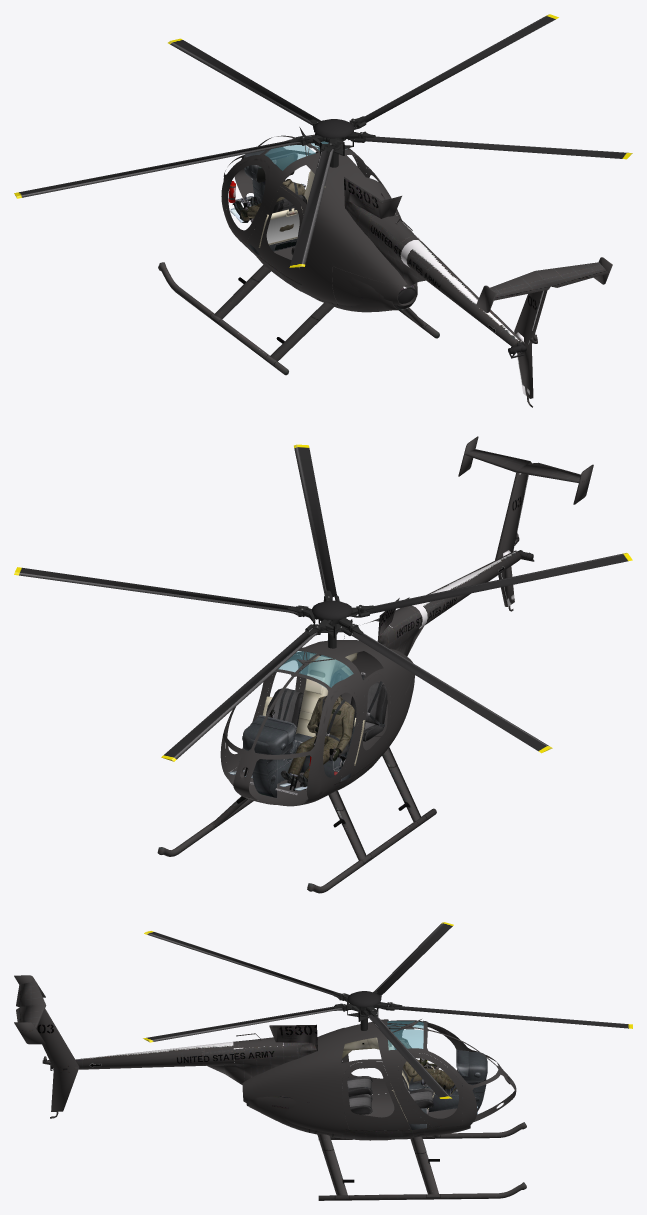
The model's file is md5_int4.glb.
The picture shows the model from 3 angles, top to bottom: view 1: azimuth 30°, elevation 25°; view 2: azimuth 150°, elevation 25°; view 3: azimuth 270°, elevation 25°; orthographic projection. The views are drawn at different scales.
Visible parts, largest first — view 1: body, ext_fuse_shadow, rotor_blades, ext_fuse_skids, ixt_console, rotor_hub, glasss_grn, ixt_pilot; view 2: rotor_blades, body, ext_fuse_shadow, ixt_console, ext_fuse_skids, ixt_pilot, ixt_seatsL, glasss_grn, ixt_seatsR, rotor_hub; view 3: body, ext_fuse_shadow, rotor_blades, ext_fuse_skids, ixt_console, ixt_seatsR, glasss_grn, rotor_hub, ixt_pilot, ixt_seatsL.
Part boxes in pixels (x1,y1,x2,y2): body: [221, 134, 417, 306]; ext_fuse_shadow: [242, 177, 612, 407]; rotor_blades: [14, 14, 632, 267]; ext_fuse_skids: [158, 262, 439, 375]; ixt_console: [228, 147, 325, 254]; rotor_hub: [314, 119, 353, 167]; glasss_grn: [265, 141, 346, 170]; ixt_pilot: [233, 179, 305, 231]; rotor_blades: [14, 444, 632, 761]; body: [220, 640, 415, 806]; ext_fuse_shadow: [302, 436, 593, 801]; ixt_console: [242, 653, 365, 797]; ext_fuse_skids: [157, 747, 436, 893]; ixt_pilot: [280, 696, 354, 789]; ixt_seatsL: [309, 672, 387, 760]; glasss_grn: [275, 651, 353, 687]; ixt_seatsR: [266, 671, 343, 733]; rotor_hub: [312, 600, 352, 648]; body: [242, 1019, 516, 1136]; ext_fuse_shadow: [14, 975, 460, 1140]; rotor_blades: [143, 922, 632, 1098]; ext_fuse_skids: [317, 1122, 526, 1200]; ixt_console: [342, 1037, 487, 1129]; ixt_seatsR: [342, 1070, 433, 1114]; glasss_grn: [387, 1021, 423, 1050]; rotor_hub: [347, 991, 381, 1030]; ixt_pilot: [364, 1038, 454, 1089]; ixt_seatsL: [341, 1045, 430, 1096].
Bounding box in the file's own units: 7.65 × 3.22 × 9.2.
Materials: 13 (10 with a texture image).
